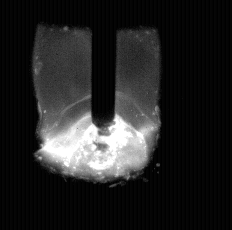arame: (92, 0, 116, 125)
poca: (41, 0, 153, 230)
